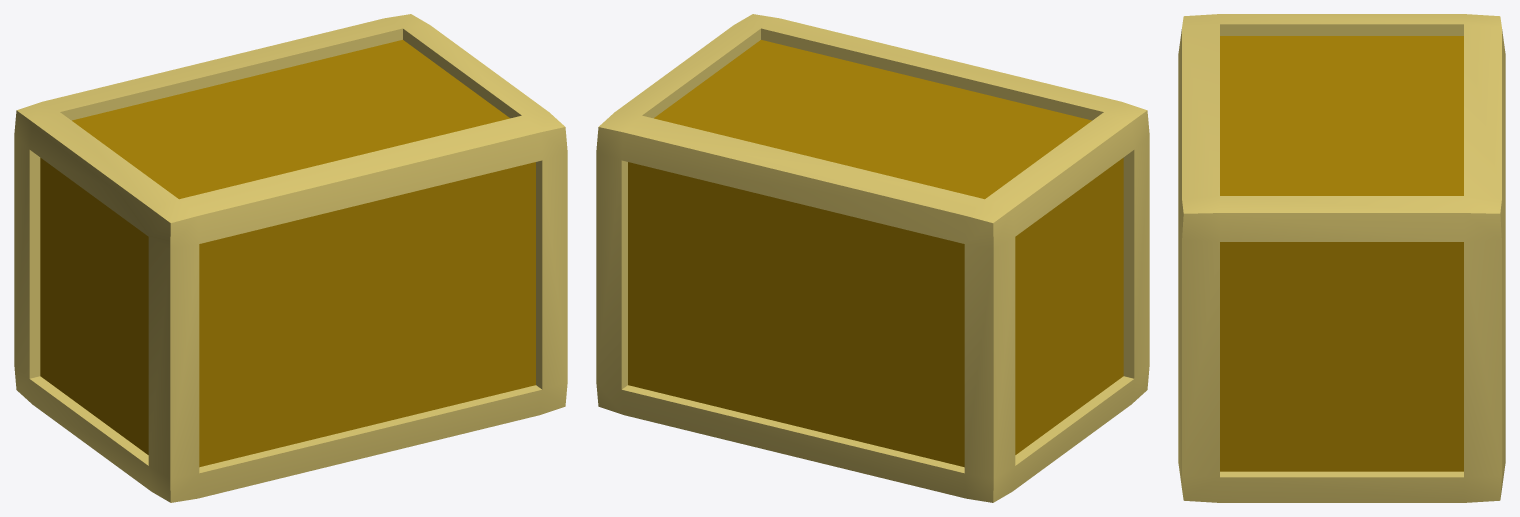
File: Chest_Locked.fbx
3 renders of one model, left to right at view 1: azimuth 30°, elevation 25°; view 2: azimuth 150°, elevation 25°; view 3: azimuth 270°, elevation 25°, orthographic. The views are drawn at different scales.
Visible parts, largest first — view 1: pCube17; view 2: pCube17; view 3: pCube17.
Boxes of the visible parts, x1,y1,x2,y2 form: pCube17: (14, 14, 567, 502); pCube17: (596, 14, 1149, 502); pCube17: (1178, 14, 1505, 502).
Size of the model in its own units: 15.85 by 10.85 by 10.85.
